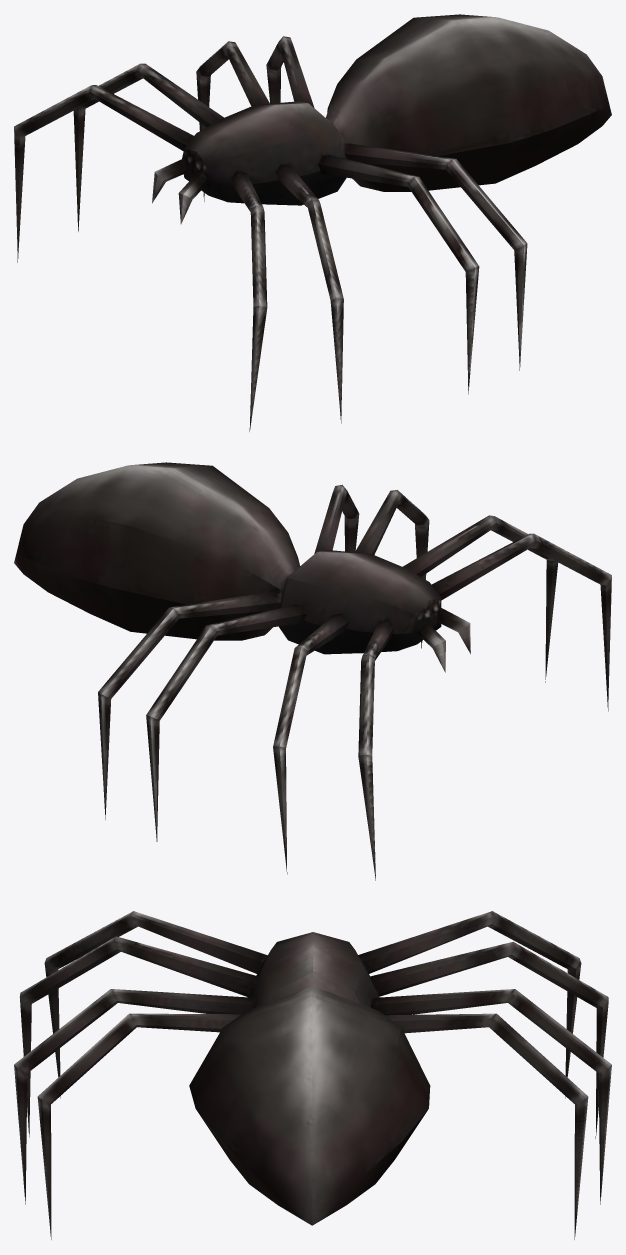
Rendered from black_spider.glb.
3 views of the same model, one above another, from view 1: azimuth 30°, elevation 25°; view 2: azimuth 150°, elevation 25°; view 3: azimuth 270°, elevation 25° (orthographic). The views are drawn at different scales.
Visible parts, largest first — view 1: black_spider; view 2: black_spider; view 3: black_spider.
Part boxes in pixels (x1,y1,x2,y2): black_spider: (14, 14, 611, 431); black_spider: (14, 462, 611, 880); black_spider: (14, 911, 611, 1239).
Bounding box in the file's own units: 0.1 × 0.05 × 0.0997.
1 material, 1 textured.
